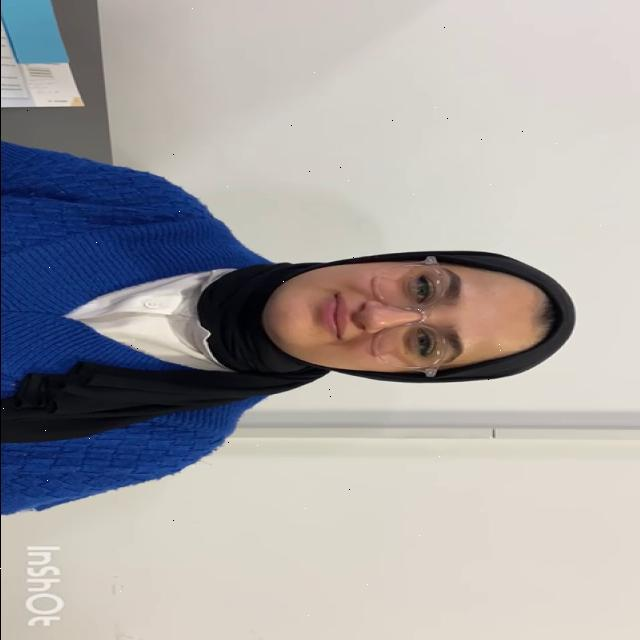happy: (264, 258, 541, 377)
